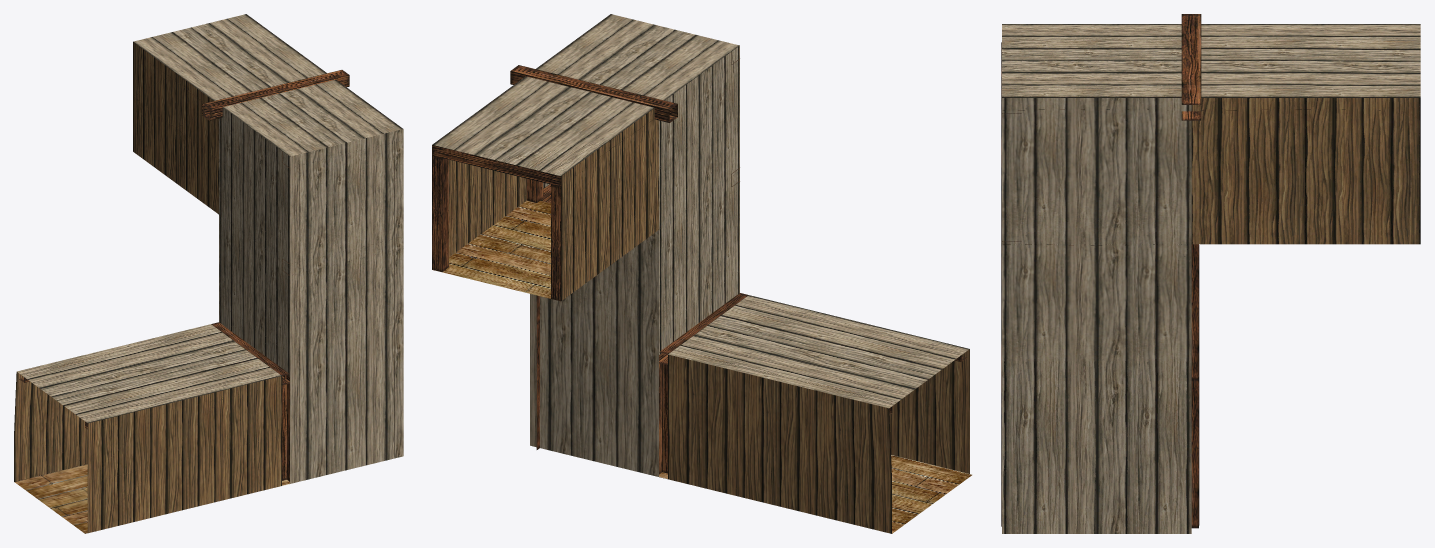
The model's file is LAKETOWN_WAREHOUSE2_PS_WH2_CELLARSHAFT998__GX.fbx.
The picture shows the model from 3 angles, left to right: view 1: azimuth 30°, elevation 25°; view 2: azimuth 150°, elevation 25°; view 3: azimuth 270°, elevation 25°; orthographic projection. The views are drawn at different scales.
Visible parts, largest first — view 1: LAKETOWN_WAREHOUSE2_PS_WH2_CELLARSHAFT998__GX; view 2: LAKETOWN_WAREHOUSE2_PS_WH2_CELLARSHAFT998__GX; view 3: LAKETOWN_WAREHOUSE2_PS_WH2_CELLARSHAFT998__GX.
Boxes of the visible parts, x1,y1,x2,y2 form: LAKETOWN_WAREHOUSE2_PS_WH2_CELLARSHAFT998__GX: (14, 14, 403, 533); LAKETOWN_WAREHOUSE2_PS_WH2_CELLARSHAFT998__GX: (432, 14, 972, 533); LAKETOWN_WAREHOUSE2_PS_WH2_CELLARSHAFT998__GX: (1001, 14, 1420, 533).
Size of the model in its own units: 64253 by 60806 by 52789.
Materials: 5 (5 with a texture image).
